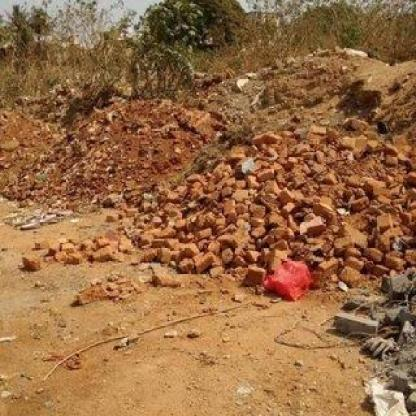brick: (0, 48, 415, 415)
